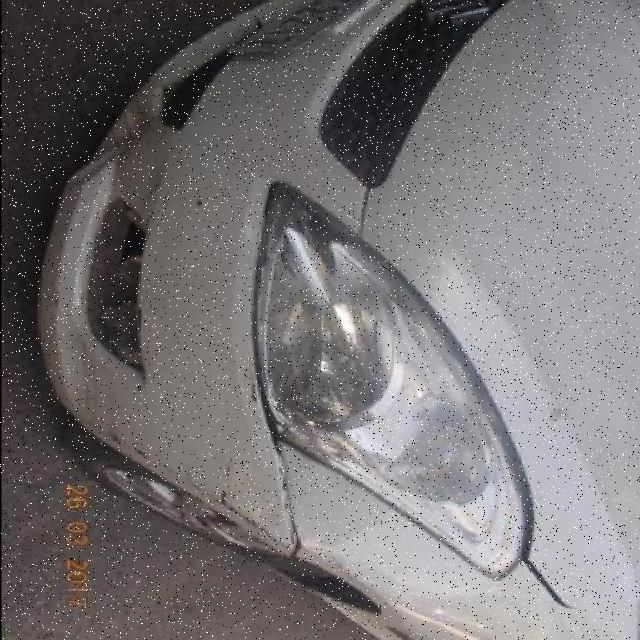damage: (79, 417, 279, 539), (74, 86, 171, 200), (257, 367, 302, 557)
